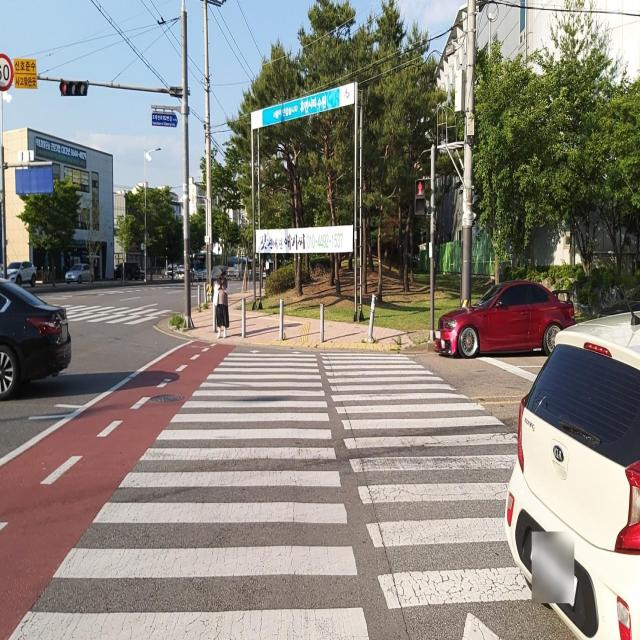빨간불: (414, 177, 426, 217)
횡단보도: (14, 327, 580, 640), (33, 294, 177, 323)
